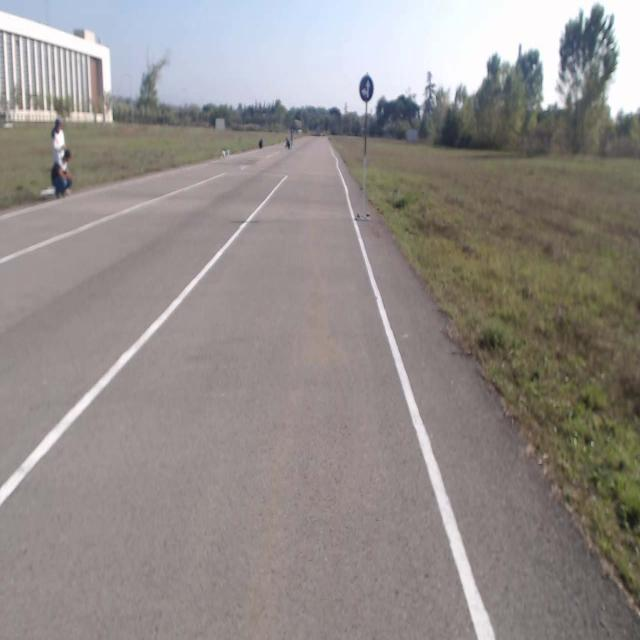ilerisol: (360, 76, 374, 102)
